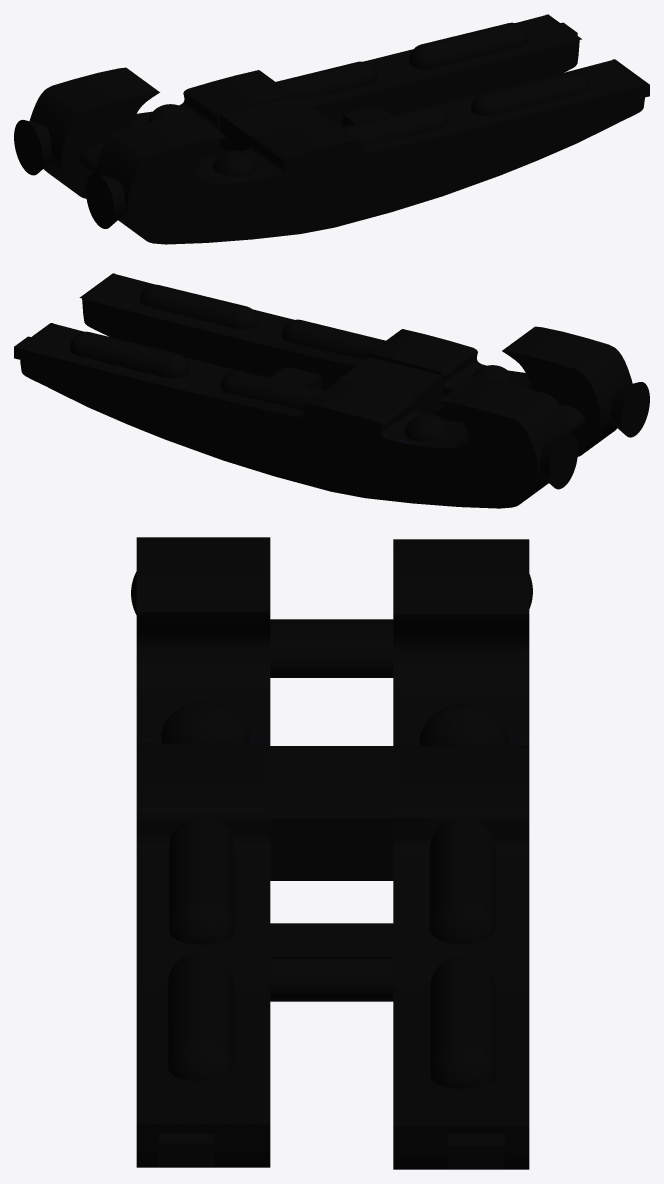
Rendered from starship1_red.fbx.
3 views of the same model, one above another, from view 1: azimuth 30°, elevation 25°; view 2: azimuth 150°, elevation 25°; view 3: azimuth 270°, elevation 25° (orthographic). The views are drawn at different scales.
Visible parts, largest first — view 1: root (×13); view 2: root (×13); view 3: root (×14).
Boxes of the visible parts, <box> form: root (×13): <box>14,14,648,244</box>; root (×13): <box>17,273,649,508</box>; root (×14): <box>136,537,529,1169</box>.
Size of the model in its own units: 1.21 by 0.2583 by 0.3895.
Materials: 16 (16 with a texture image).
